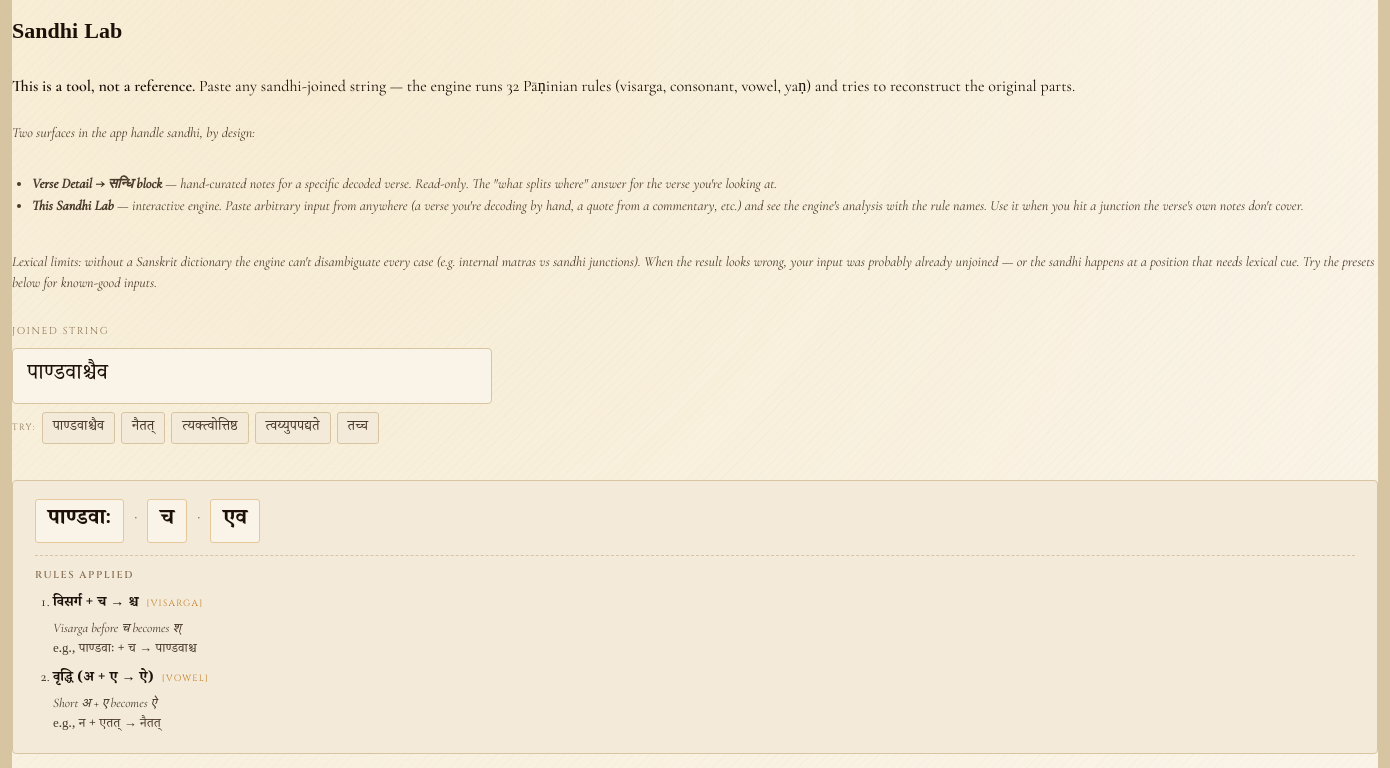
it: SandhiLab — input interaction › an unparseable input shows the empty-result hint
Replace the text in the field with class "sandhi-input" with "क" at x=252, y=376, box [12, 348, 492, 404]
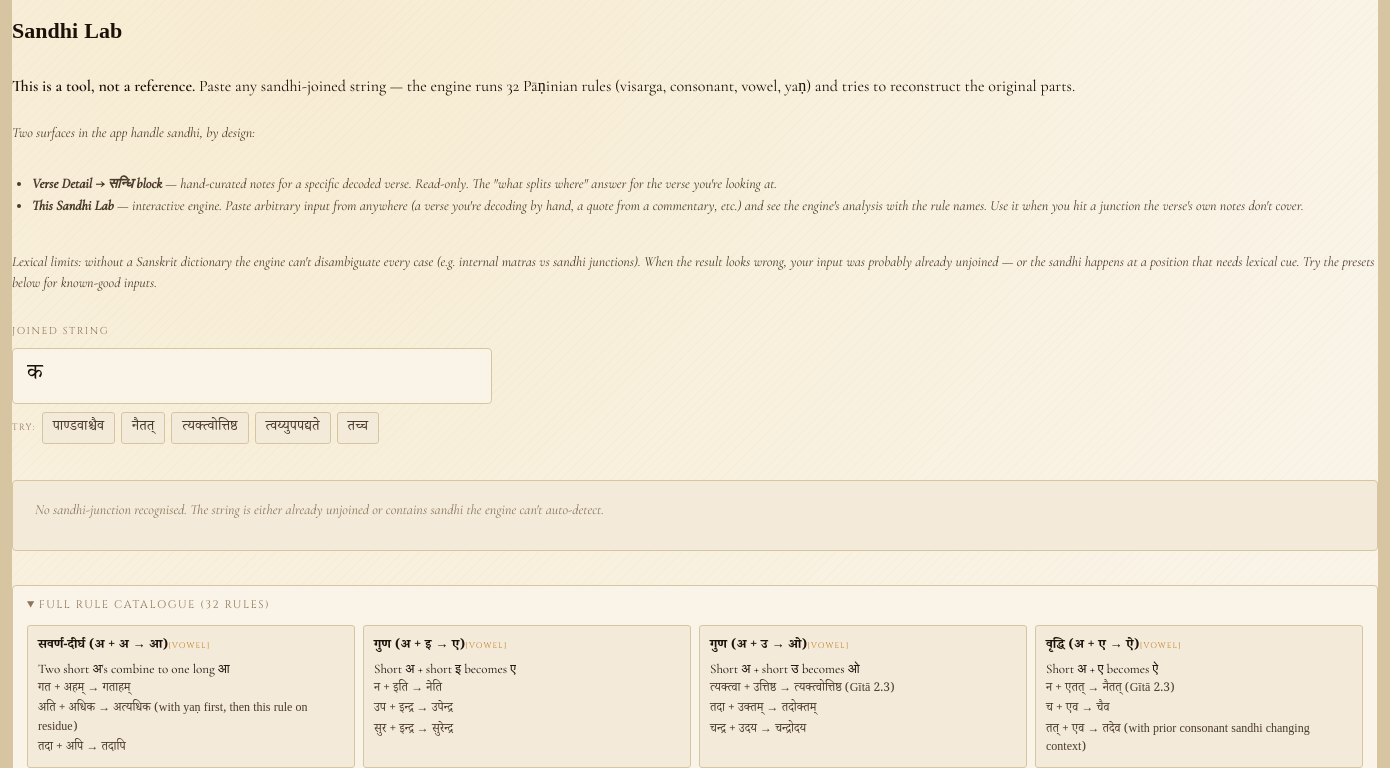
Check: the text with class "sandhi-result-empty" is shown, box [35, 499, 604, 520]
